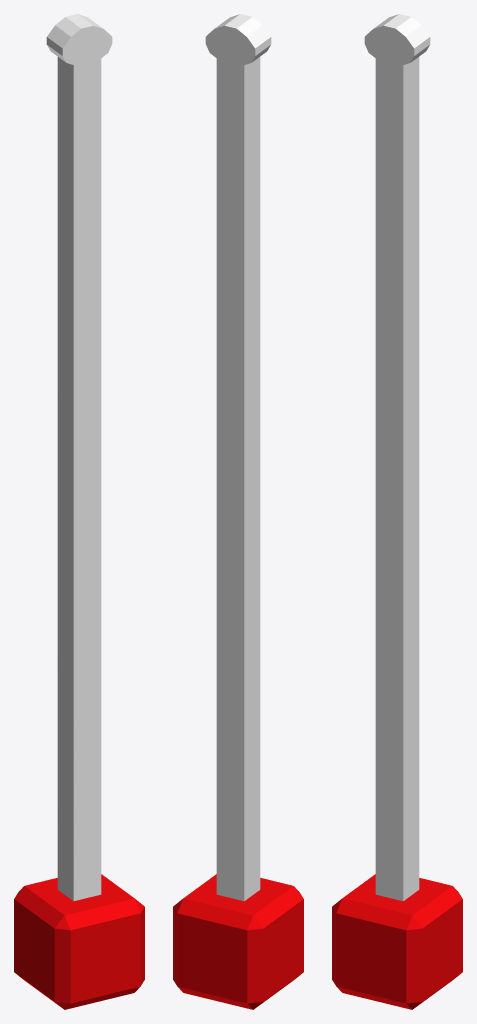
Rendered from pole.fbx.
The picture shows the model from 3 angles, left to right: view 1: azimuth 30°, elevation 25°; view 2: azimuth 150°, elevation 25°; view 3: azimuth 330°, elevation 25°; orthographic projection.
Parts seen in each view (by area): view 1: Cube; view 2: Cube; view 3: Cube.
Part boxes in pixels (<box>): Cube: <box>14,14,144,1009</box>; Cube: <box>173,14,303,1009</box>; Cube: <box>332,14,462,1009</box>.
Size of the model in its own units: 96.8 by 988 by 96.8.
